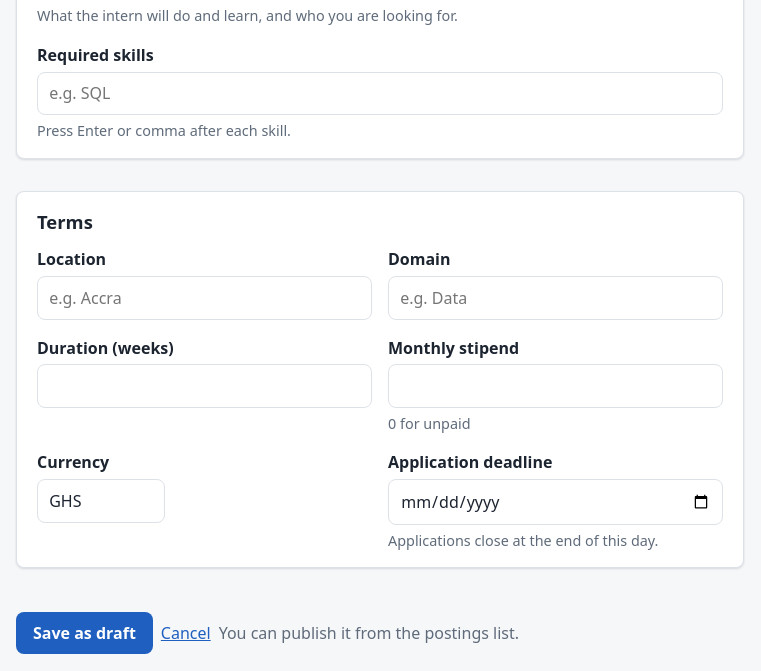
Scenario: PostingFormPage (US-05) › requires every field and at least one skill
(page scrolled)
Click the button "Save as draft" at (84, 633), box [16,612,153,654]
(page scrolled)
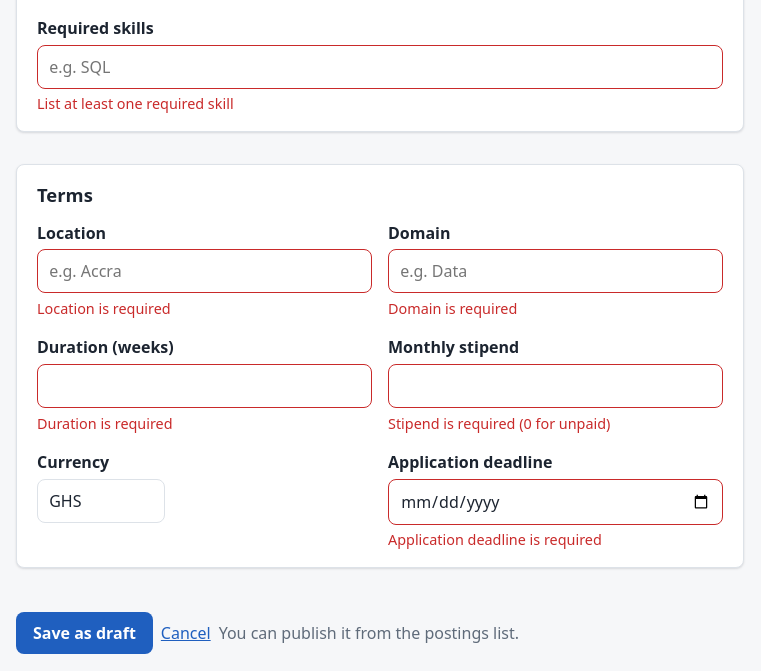
Result: the text "Location is required" is shown at [37,299,171,318]
Result: the text "Duration is required" is shown at [37,414,173,433]
Result: the text "List at least one required skill" is shown at [37,94,234,113]
